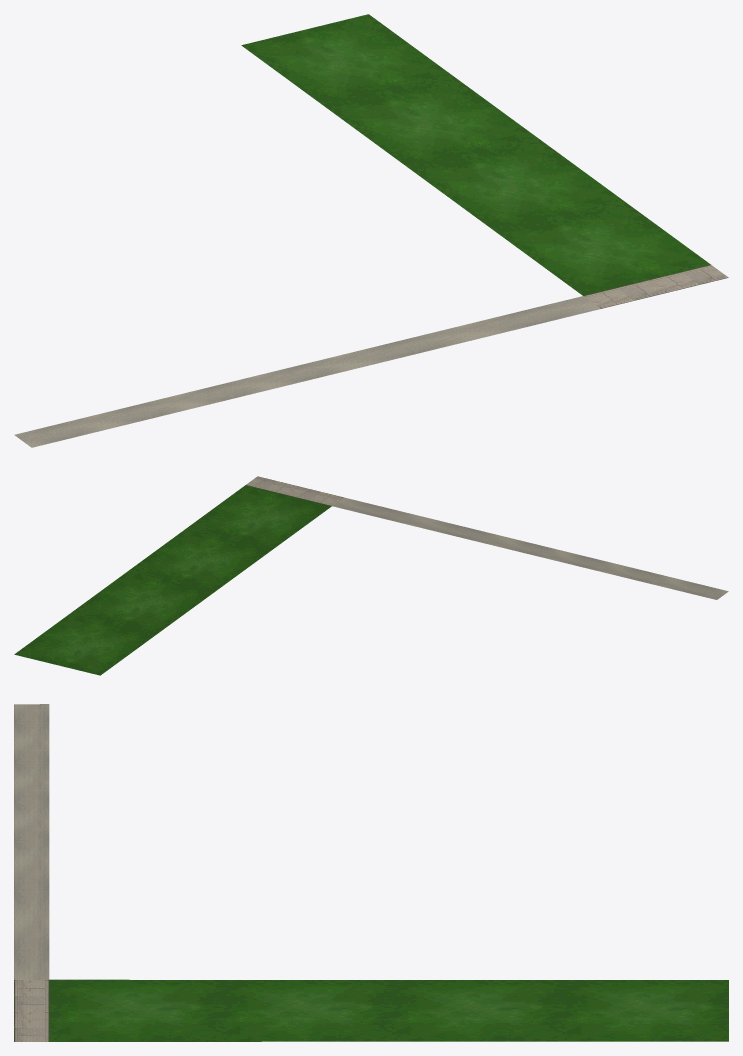
File: aaaObject06.glb
3 views of the same model, one above another, from view 1: azimuth 30°, elevation 25°; view 2: azimuth 150°, elevation 25°; view 3: azimuth 270°, elevation 25° (orthographic). The views are drawn at different scales.
Visible parts, largest first — view 1: aaaObject06; view 2: aaaObject06; view 3: aaaObject06.
Boxes of the visible parts, x1,y1,x2,y2 form: aaaObject06: [14, 14, 728, 447]; aaaObject06: [14, 476, 728, 675]; aaaObject06: [14, 704, 728, 1041].
Size of the model in its own units: 10038 by 0.0567 by 8983.
3 materials, 3 textured.
